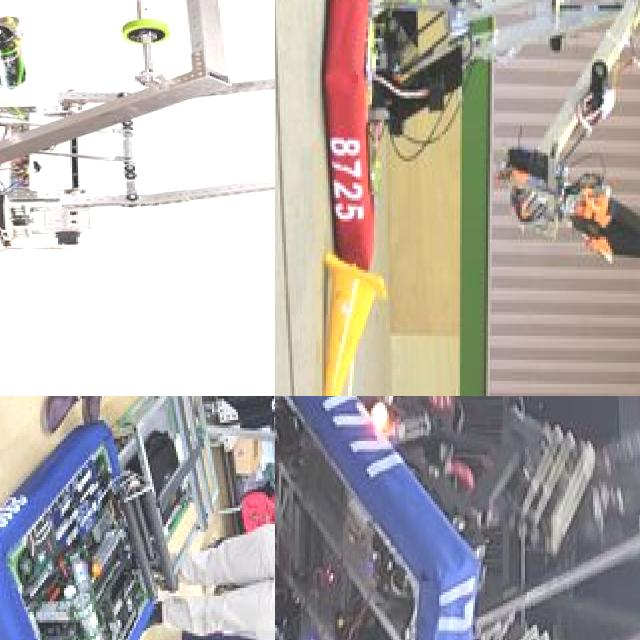FRC-Robots: (0, 0, 275, 373), (309, 0, 640, 306), (275, 396, 640, 640), (0, 396, 251, 640)
